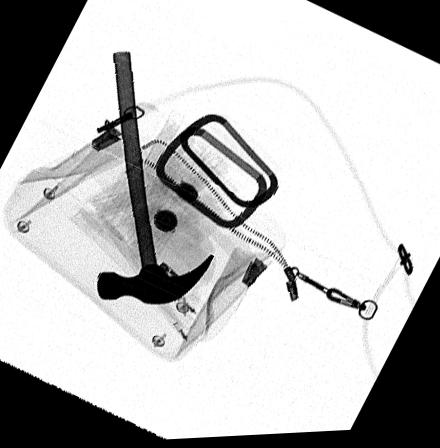Hammer: (96, 52, 216, 308)
